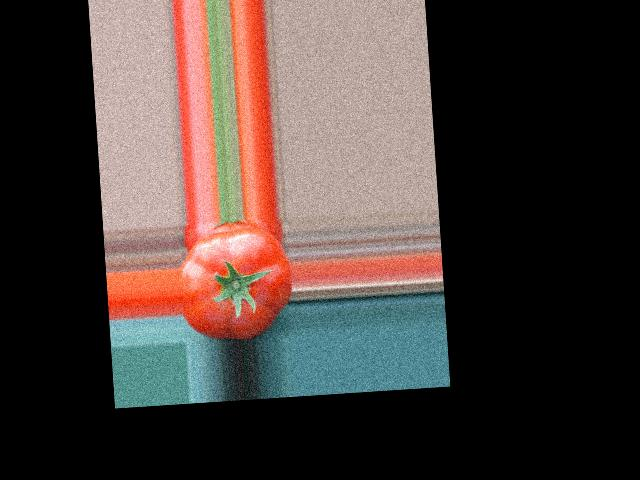tomato: (177, 224, 296, 342)
